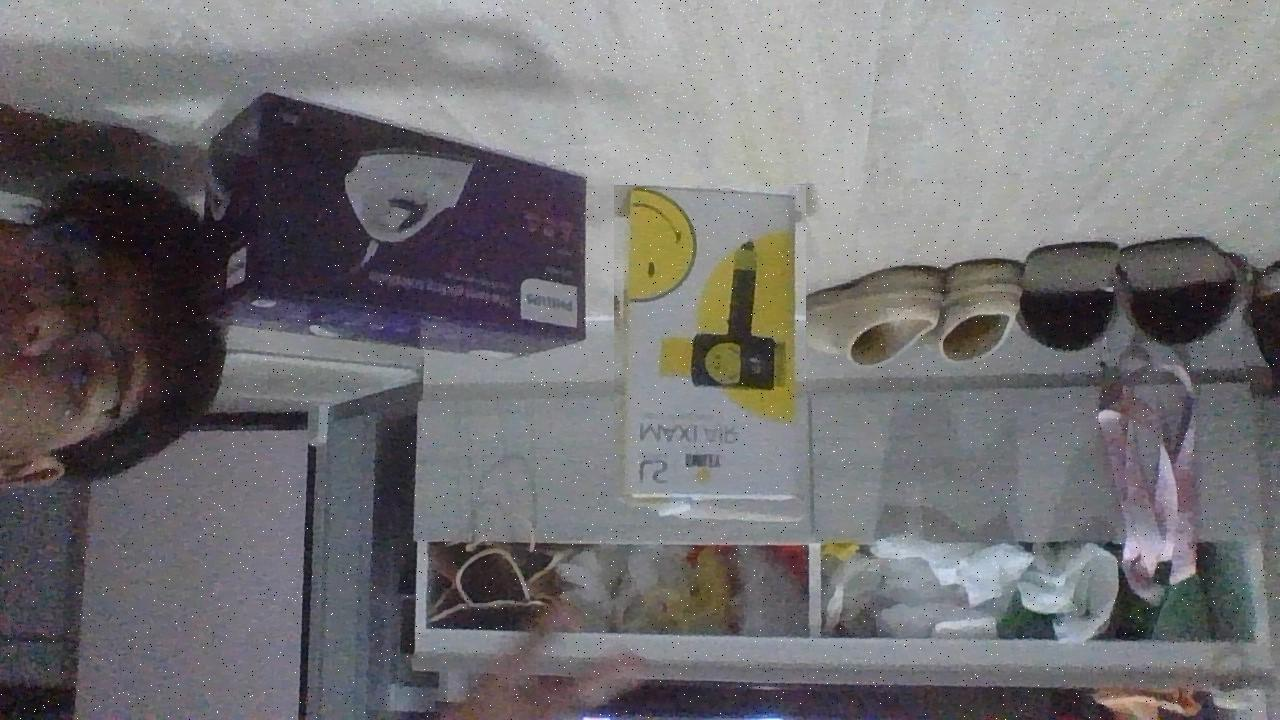Dryer: (614, 185, 806, 524)
IRON: (202, 89, 593, 364)
